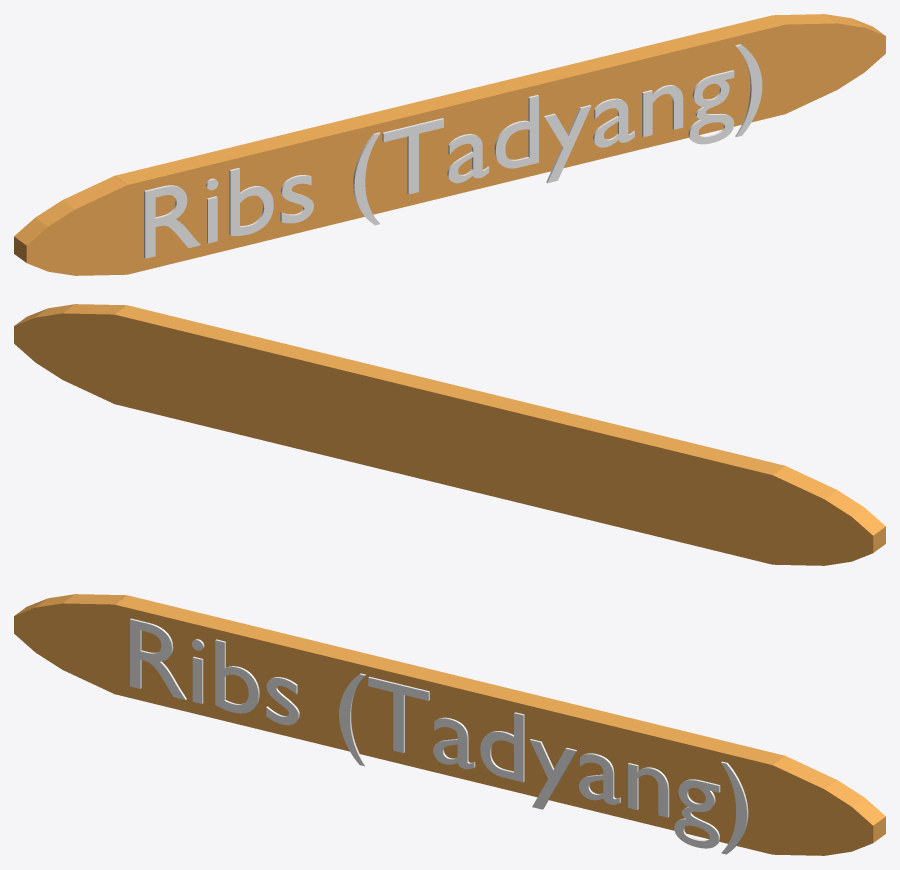
The model's file is txtRibs.fbx.
3 renders of one model, top to bottom at view 1: azimuth 30°, elevation 25°; view 2: azimuth 150°, elevation 25°; view 3: azimuth 330°, elevation 25°, orthographic.
Parts seen in each view (by area): view 1: TagContainer.046, Text.047; view 2: TagContainer.046; view 3: TagContainer.046, Text.047.
Boxes of the visible parts, bbox=[...] form: TagContainer.046: bbox=[14, 14, 885, 275]; Text.047: bbox=[144, 44, 762, 258]; TagContainer.046: bbox=[14, 304, 885, 565]; TagContainer.046: bbox=[14, 594, 885, 855]; Text.047: bbox=[130, 618, 748, 854].
Bounding box in the file's own units: 414 × 45.81 × 11.79.
